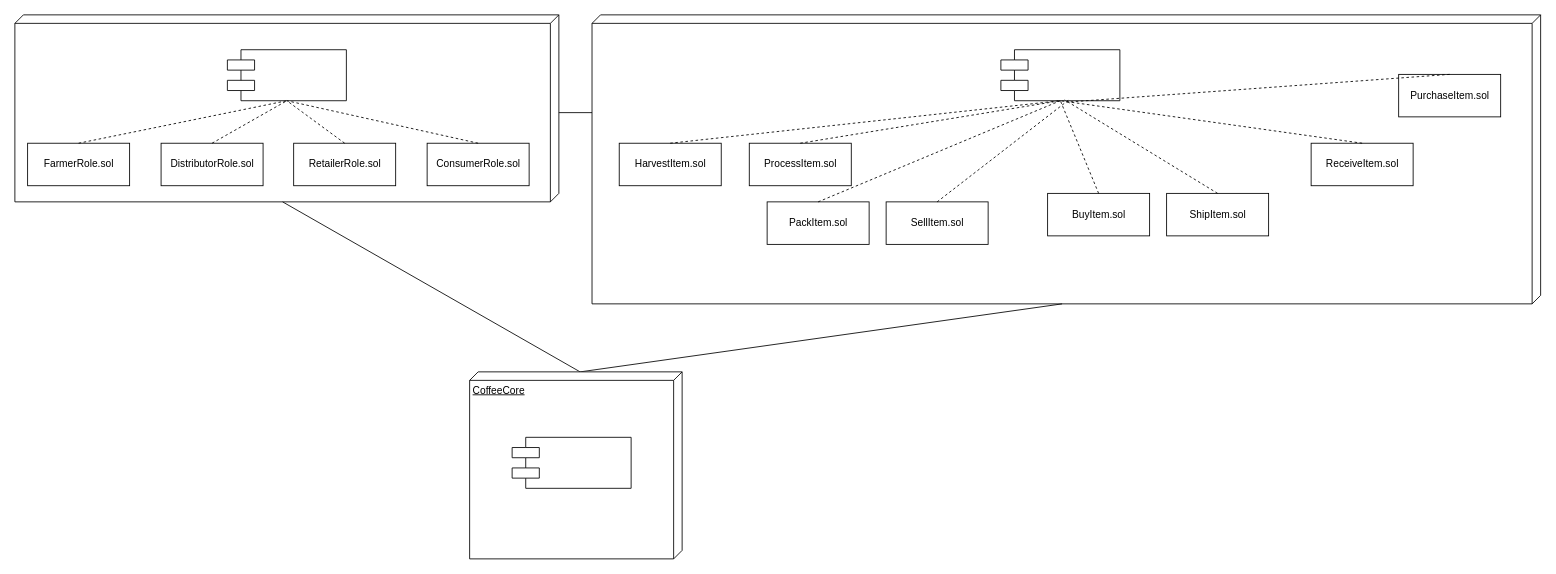
Some shapes in this 1556 by 574 pixel diagram are drawn without their labels. Each missing label, with the box of its shape:
CoffeeAccessControl: (14, 14, 559, 202)
CoffeelBase: (591, 14, 1541, 304)
Ownable.sol: (511, 436, 631, 488)
Roles.sol: (227, 49, 346, 101)
SupplyChain.sol: (1000, 49, 1120, 101)
